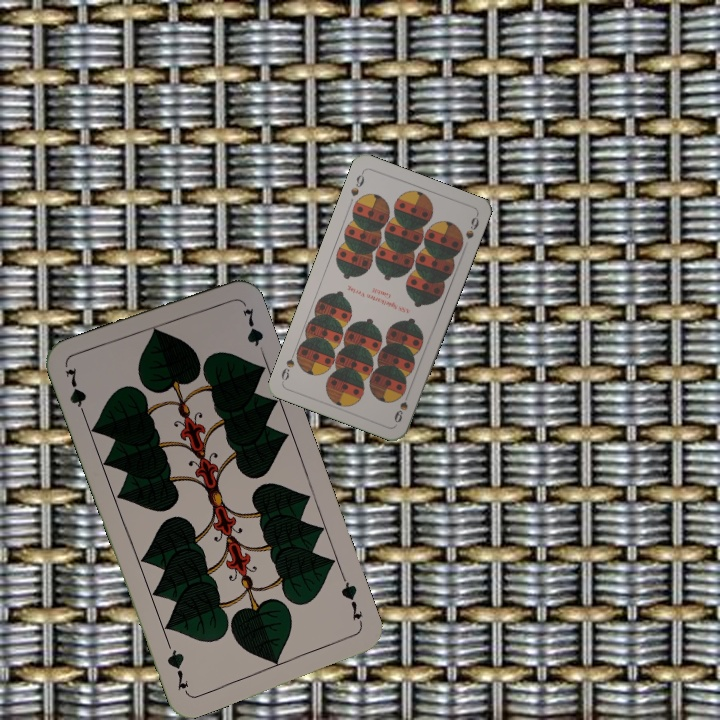G7: (337, 573, 366, 630), (61, 363, 89, 422)
S9: (390, 387, 413, 425), (346, 168, 367, 199)
